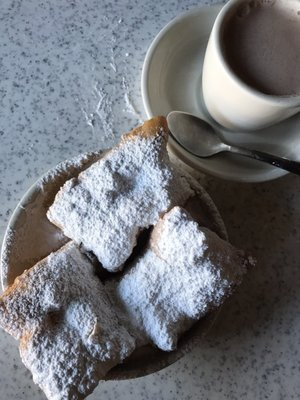pizza: (140, 0, 300, 138), (201, 0, 300, 132)
salad: (167, 111, 300, 179)
